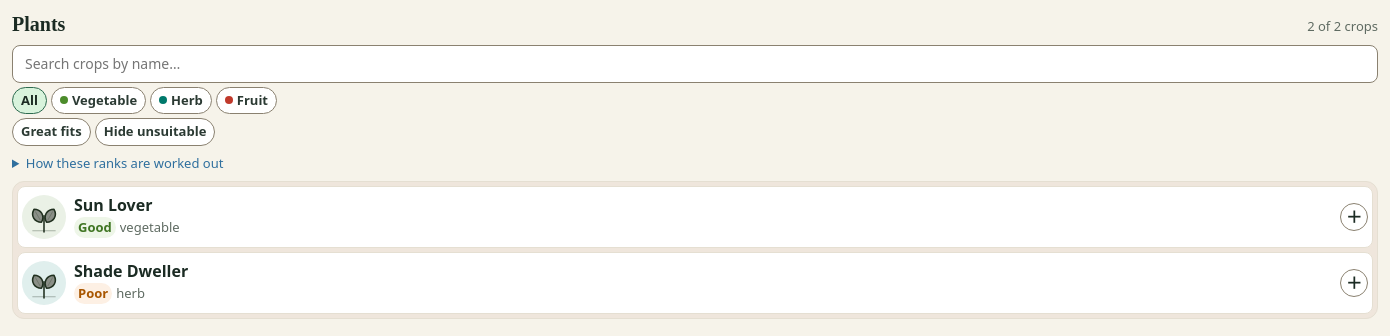
Test: PlantPalette › narrows the rendered list by category chip
Click the radio button labelled "Herb" at (181,100), box [150,87,212,114]
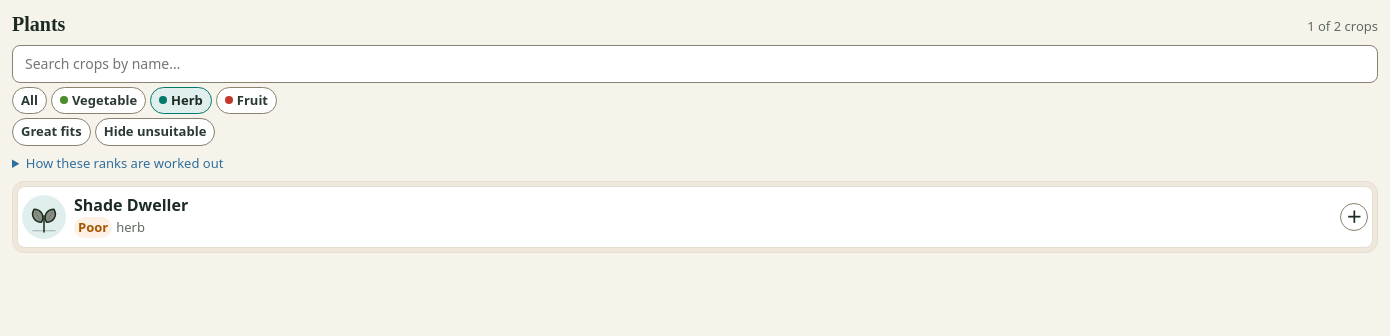
Expected: the text "Shade Dweller" is shown, [74,196,188,215]
Expected: the button "Sun Lover" is gone
Click the radio button labelled "All" at (29,100), box [12,87,47,114]
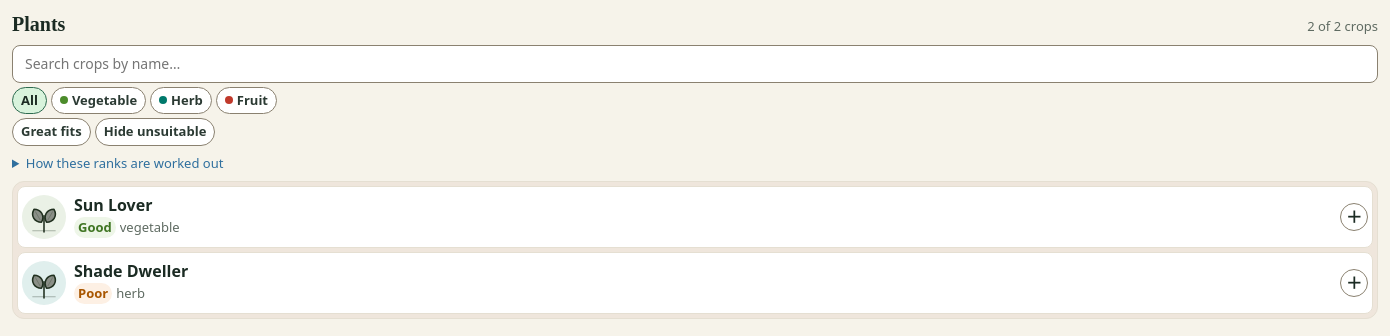
Expected: the text "Sun Lover" is shown, [74,194,152,216]
